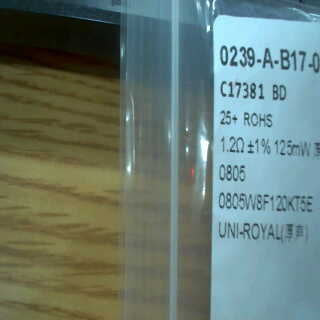1.2R: (216, 135, 248, 182)
